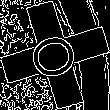O_E: (24, 27, 86, 83)
